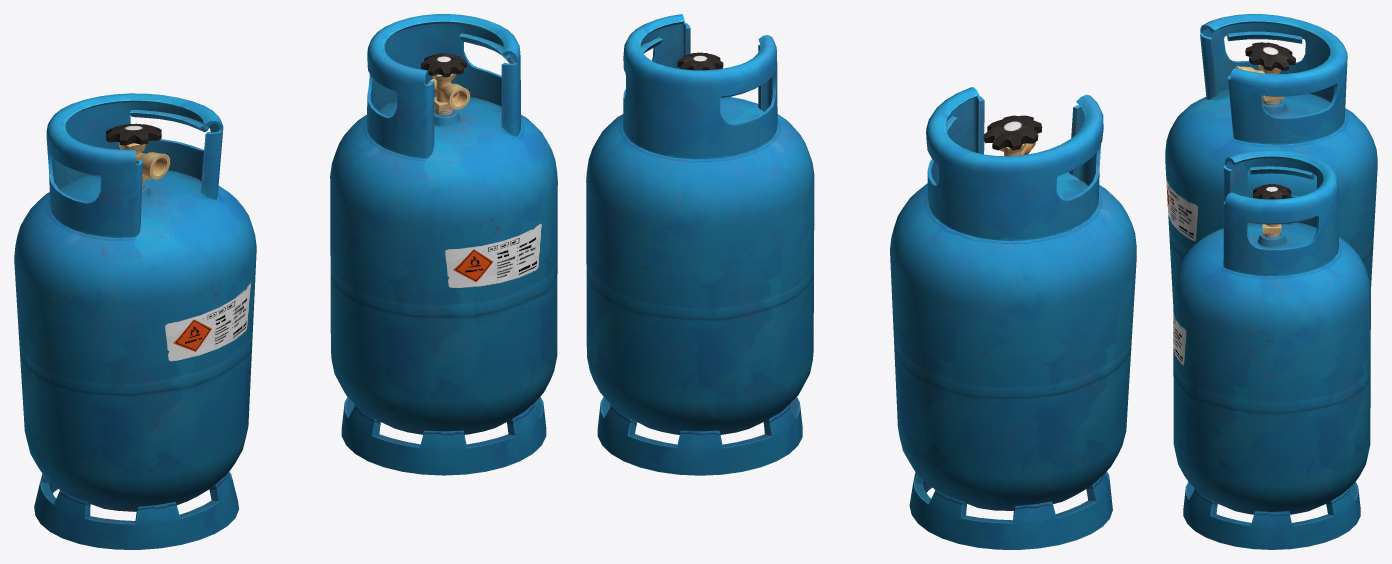
File: SM_StylizedGasCylinder.fbx
The picture shows the model from 3 angles, left to right: view 1: azimuth 30°, elevation 25°; view 2: azimuth 150°, elevation 25°; view 3: azimuth 270°, elevation 25°; orthographic projection. The views are drawn at different scales.
Parts seen in each view (by area): view 1: SM_GasCylinder, SM_GasCylinderUnposed; view 2: SM_GasCylinder, SM_GasCylinderUnposed; view 3: SM_GasCylinderUnposed, SM_GasCylinder.
Boxes of the visible parts, x1,y1,x2,y2 form: SM_GasCylinder: [14, 93, 256, 549]; SM_GasCylinderUnposed: [330, 14, 557, 475]; SM_GasCylinder: [890, 87, 1136, 549]; SM_GasCylinderUnposed: [586, 14, 814, 475]; SM_GasCylinderUnposed: [1173, 150, 1370, 549]; SM_GasCylinder: [1165, 14, 1377, 303].
Size of the model in its own units: 83.26 by 60.81 by 34.35.
